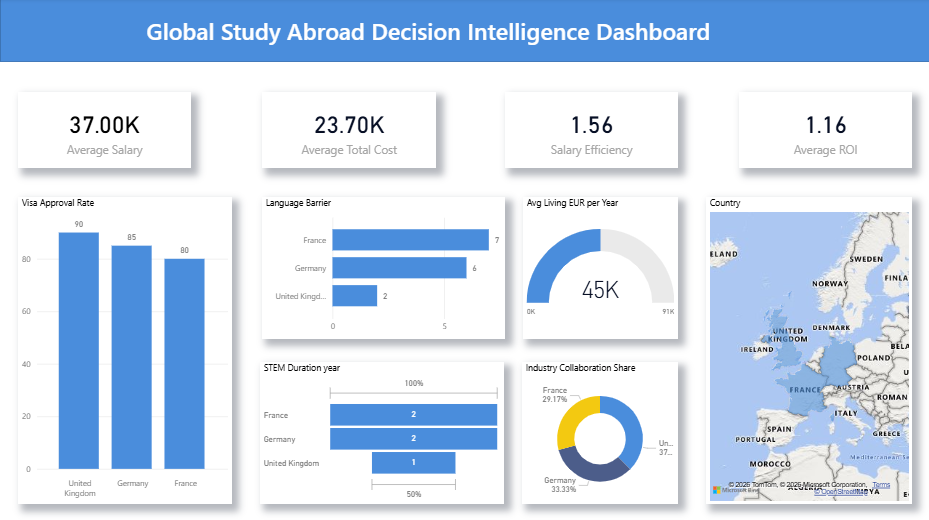

Layout of this report page (visuals, bound fields, positions):
{"tool":"powerbi","page":{"name":"Page 1","canvas":[1280,720],"ordinal":0},"visuals":[{"type":"clusteredColumnChart","title":"Visa Approval Rate","fields":{"Category":["STEM_Masters_Raw_Data.Country"],"Y":["Sum(STEM_Masters_Raw_Data.Visa_Approval_Rate_Percent)"]},"box":[25,273.3,293.9,423.2],"z":0},{"type":"card","fields":{"Values":["STEM_Masters_Raw_Data.Average ROI"]},"box":[1016.7,130,238.3,105],"z":1000},{"type":"card","fields":{"Values":["STEM_Masters_Raw_Data.Average Salary"]},"box":[25,130,238.3,105],"z":2000},{"type":"card","fields":{"Values":["STEM_Masters_Raw_Data.Average Total Cost"]},"box":[360,130,240,105],"z":3000},{"type":"card","fields":{"Values":["STEM_Masters_Raw_Data.Salary Efficiency"]},"box":[695,130,238.3,105],"z":4000},{"type":"clusteredBarChart","title":"Language Barrier","fields":{"Category":["STEM_Masters_Raw_Data.Country"],"Y":["Sum(STEM_Masters_Raw_Data.Language_Barrier_1_to_10)"]},"box":[360,273.3,335,195.4],"z":5000},{"type":"filledMap","fields":{"Category":["STEM_Masters_Raw_Data.Country"]},"box":[971.7,273.9,283.5,422.5],"z":6000},{"type":"funnel","title":"STEM Duration year","fields":{"Category":["STEM_Masters_Raw_Data.Country"],"Y":["Sum(STEM_Masters_Raw_Data.Duration_Years)"]},"box":[358.5,501.1,336.5,195.4],"z":7000},{"type":"donutChart","title":"Industry Collaboration Share","fields":{"Y":["Sum(STEM_Masters_Raw_Data.Industry_Collaboration_1_to_10)"],"Category":["STEM_Masters_Raw_Data.Country"]},"box":[718.5,501,214.7,195.4],"z":8000},{"type":"gauge","title":"Avg Living EUR per Year","fields":{"Y":["Sum(STEM_Masters_Raw_Data.Avg_Living_EUR_per_Year)"]},"box":[719.8,273.9,213.3,195.4],"z":9000},{"type":"shape","box":[0,0,1279.8,88.2],"z":10000},{"type":"textbox","box":[99.9,17.6,987.4,54.4],"z":11000}]}

Visuals, with their boxes in screenshot pixels (x1, y1, x2, y2), scaled from the page's 1280x720 canvas onto the 929x520 screenshot:
"Visa Approval Rate" clusteredColumnChart: BBox(18, 197, 231, 503)
card - STEM_Masters_Raw_Data.Average ROI: BBox(738, 94, 911, 170)
card - STEM_Masters_Raw_Data.Average Salary: BBox(18, 94, 191, 170)
card - STEM_Masters_Raw_Data.Average Total Cost: BBox(261, 94, 435, 170)
card - STEM_Masters_Raw_Data.Salary Efficiency: BBox(504, 94, 677, 170)
"Language Barrier" clusteredBarChart: BBox(261, 197, 504, 339)
filledMap - STEM_Masters_Raw_Data.Country: BBox(705, 198, 911, 503)
"STEM Duration year" funnel: BBox(260, 362, 504, 503)
"Industry Collaboration Share" donutChart: BBox(521, 362, 677, 503)
"Avg Living EUR per Year" gauge: BBox(522, 198, 677, 339)
shape: BBox(0, 0, 928, 64)
textbox: BBox(73, 13, 789, 52)
